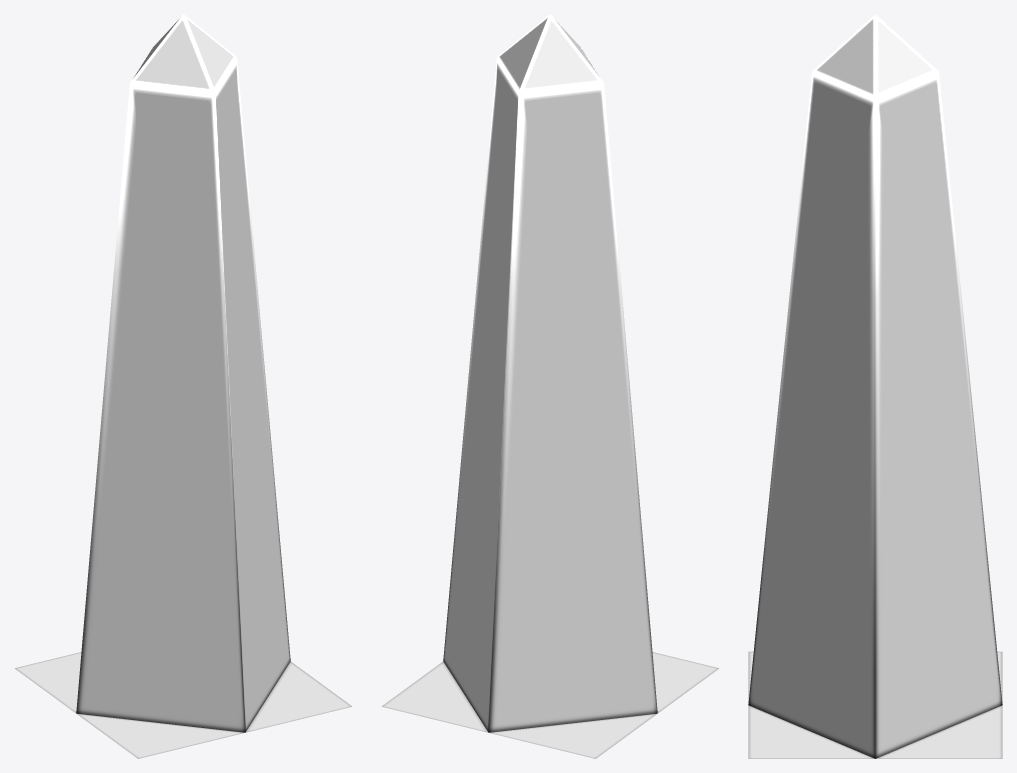
The model's file is obelisk_3-high_normal.fbx.
The picture shows the model from 3 angles, left to right: view 1: azimuth 30°, elevation 25°; view 2: azimuth 150°, elevation 25°; view 3: azimuth 270°, elevation 25°; orthographic projection. The views are drawn at different scales.
Visible parts, largest first — view 1: obelisk_3-high_normal; view 2: obelisk_3-high_normal; view 3: obelisk_3-high_normal.
Part boxes in pixels (x1,y1,x2,y2): obelisk_3-high_normal: [15, 14, 351, 758]; obelisk_3-high_normal: [382, 14, 718, 758]; obelisk_3-high_normal: [748, 14, 1002, 758].
Size of the model in its own units: 100 by 300 by 100.
